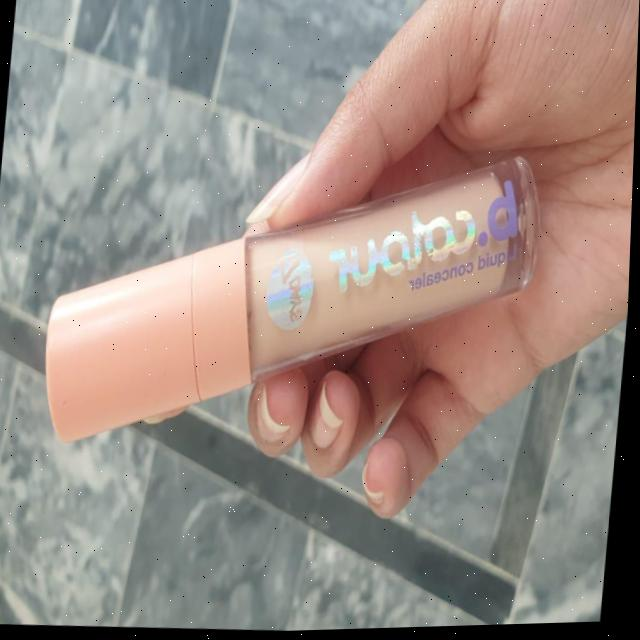lip gloss: (21, 116, 556, 515)
